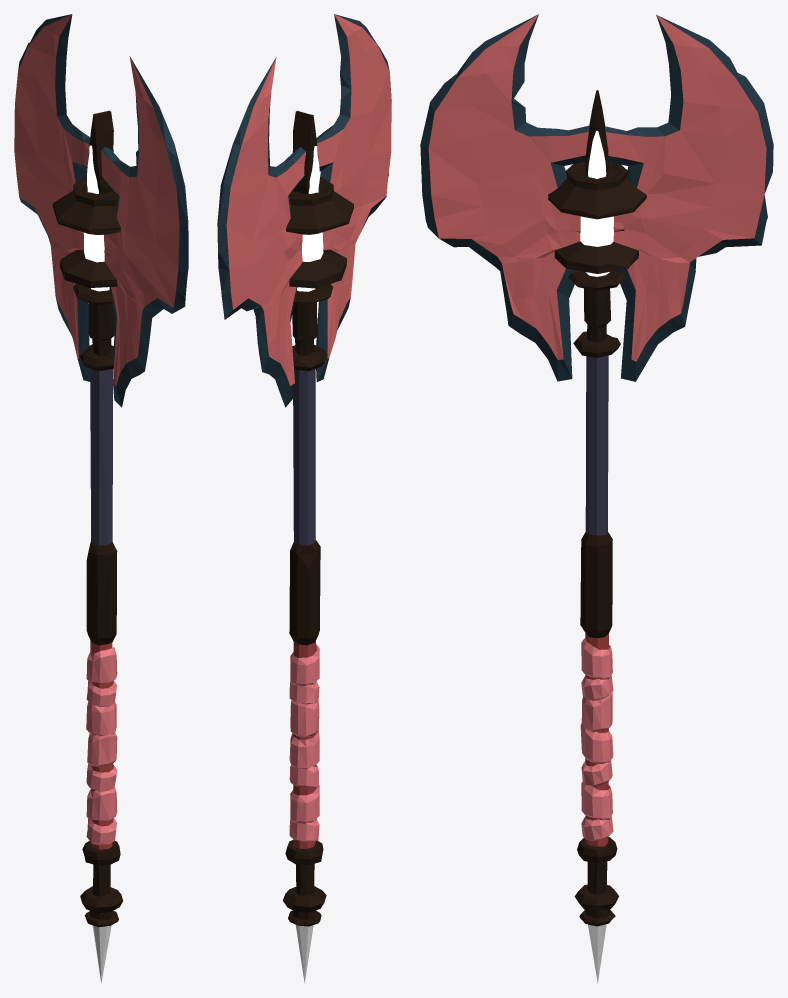
Rendered from SFFA_Weapon_Axe_Gold_001.fbx.
3 views of the same model, side by side, from view 1: azimuth 30°, elevation 25°; view 2: azimuth 150°, elevation 25°; view 3: azimuth 270°, elevation 25° (orthographic). The views are drawn at different scales.
Visible parts, largest first — view 1: SFFA_Weapon_Axe_Gold_001; view 2: SFFA_Weapon_Axe_Gold_001; view 3: SFFA_Weapon_Axe_Gold_001.
Part boxes in pixels (box(x1,y1,x2,y2)): SFFA_Weapon_Axe_Gold_001: box(14, 14, 188, 982); SFFA_Weapon_Axe_Gold_001: box(217, 14, 391, 982); SFFA_Weapon_Axe_Gold_001: box(420, 14, 773, 983).
Bounding box in the file's own units: 17.15 × 176 × 58.25.
